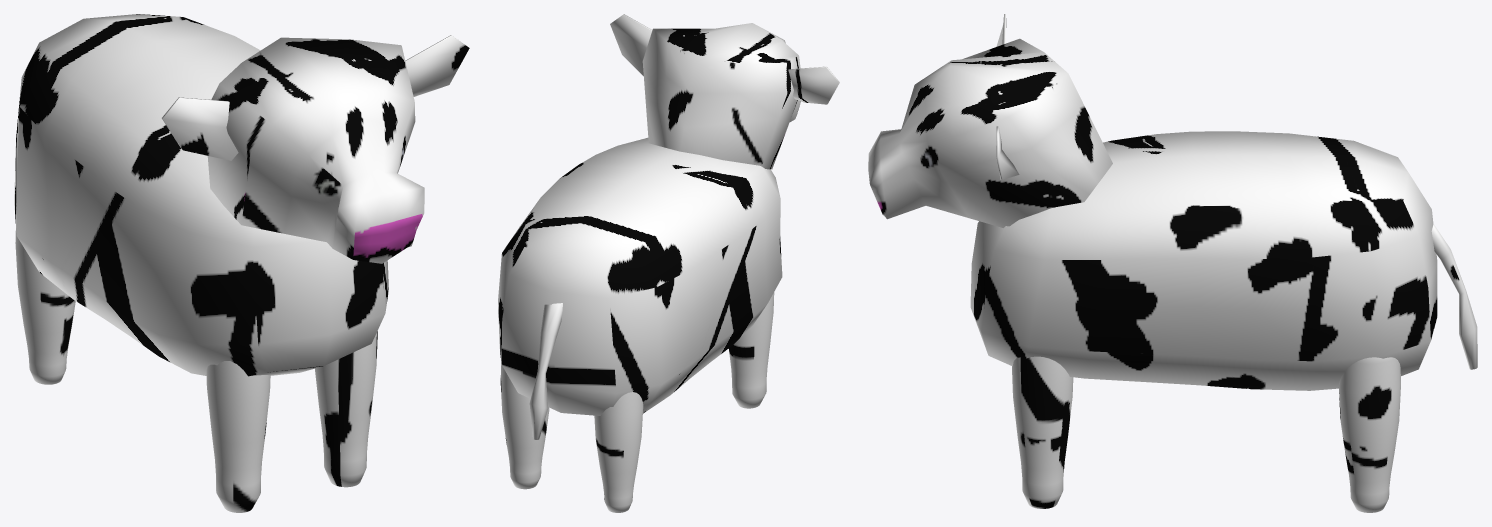
Rendered from cow.gltf.
3 renders of one model, left to right at view 1: azimuth 30°, elevation 25°; view 2: azimuth 150°, elevation 25°; view 3: azimuth 270°, elevation 25°, orthographic. The views are drawn at different scales.
Visible parts, largest first — view 1: Cylinder002; view 2: Cylinder002; view 3: Cylinder002.
Boxes of the visible parts, x1,y1,x2,y2 form: Cylinder002: (14, 14, 469, 512); Cylinder002: (498, 14, 839, 512); Cylinder002: (868, 14, 1477, 512).
Bounding box in the file's own units: 1.33 × 1.89 × 2.54.
1 material, 1 textured.
